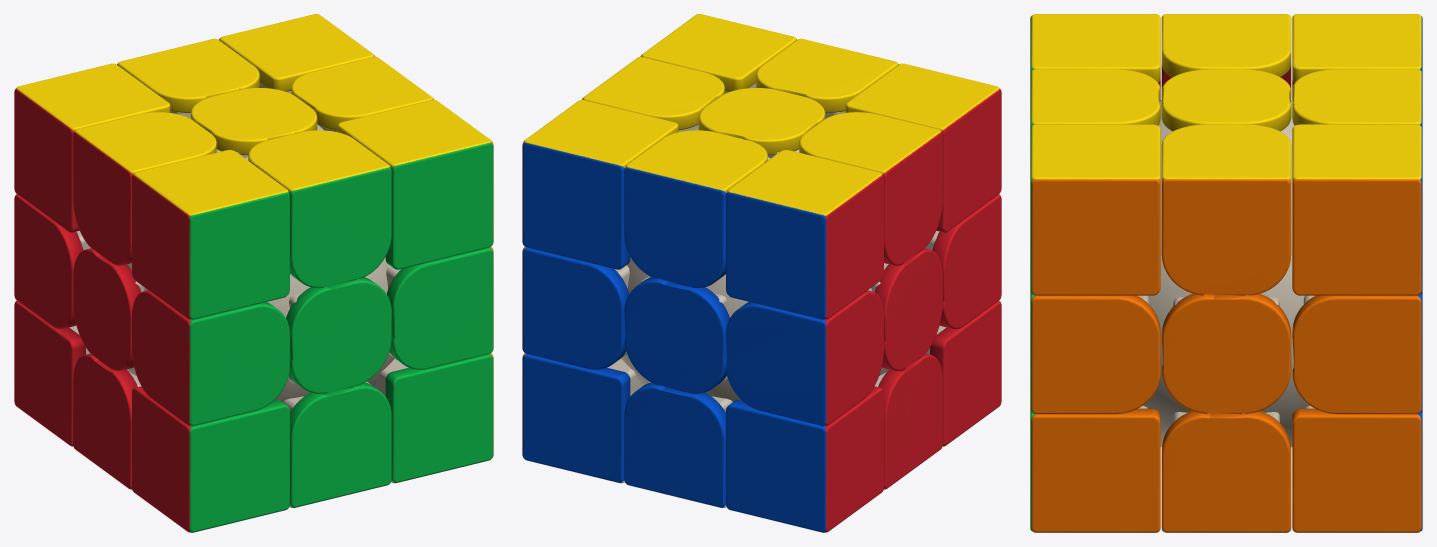
3 views of the same model, side by side, from view 1: azimuth 30°, elevation 25°; view 2: azimuth 150°, elevation 25°; view 3: azimuth 270°, elevation 25° (orthographic). The views are drawn at different scales.
Visible parts, largest first — view 1: piece_-1,1,1, piece_-1,-1,1, piece_1,1,1, piece_-1,0,1, piece_0,1,1, piece_-1,1,-1, piece_1,-1,1, piece_-1,1,0, piece_1,0,1, piece_0,-1,1, piece_0,0,1, piece_-1,-1,-1 (+8 smaller); view 2: piece_-1,1,-1, piece_-1,-1,-1, piece_1,1,-1, piece_-1,0,-1, piece_0,1,-1, piece_-1,1,1, piece_1,-1,-1, piece_-1,1,0, piece_1,0,-1, piece_0,-1,-1, piece_0,0,-1, piece_-1,-1,1 (+8 smaller); view 3: piece_1,1,-1, piece_1,1,1, piece_1,1,0, piece_1,-1,1, piece_1,-1,-1, piece_1,-1,0, piece_1,0,1, piece_1,0,-1, piece_1,0,0, piece_-1,1,0, piece_-1,1,-1, piece_-1,1,1 (+4 smaller).
Boxes of the visible parts, left/top/right/bottom form: piece_-1,1,1: left=132, top=150, right=289, bottom=319; piece_-1,-1,1: left=132, top=386, right=289, bottom=532; piece_1,1,1: left=337, top=100, right=493, bottom=269; piece_-1,0,1: left=132, top=290, right=289, bottom=425; piece_0,1,1: left=248, top=130, right=391, bottom=288; piece_-1,1,-1: left=14, top=63, right=170, bottom=232; piece_1,-1,1: left=374, top=353, right=493, bottom=483; piece_-1,1,0: left=73, top=112, right=216, bottom=265; piece_1,0,1: left=386, top=247, right=493, bottom=369; piece_0,-1,1: left=283, top=381, right=391, bottom=508; piece_0,0,1: left=286, top=277, right=391, bottom=393; piece_-1,-1,-1: left=14, top=300, right=90, bottom=446; piece_-1,1,-1: left=726, top=150, right=883, bottom=319; piece_-1,-1,-1: left=726, top=386, right=883, bottom=532; piece_1,1,-1: left=522, top=100, right=678, bottom=269; piece_-1,0,-1: left=726, top=290, right=883, bottom=425; piece_0,1,-1: left=624, top=130, right=767, bottom=288; piece_-1,1,1: left=845, top=63, right=1001, bottom=232; piece_1,-1,-1: left=522, top=353, right=641, bottom=483; piece_-1,1,0: left=799, top=112, right=942, bottom=265; piece_1,0,-1: left=522, top=247, right=629, bottom=369; piece_0,-1,-1: left=624, top=381, right=732, bottom=508; piece_0,0,-1: left=624, top=277, right=729, bottom=393; piece_-1,-1,1: left=925, top=300, right=1001, bottom=446; piece_1,1,-1: left=1292, top=124, right=1422, bottom=295; piece_1,1,1: left=1030, top=124, right=1160, bottom=295; piece_1,1,0: left=1161, top=124, right=1291, bottom=295; piece_1,-1,1: left=1030, top=405, right=1160, bottom=532; piece_1,-1,-1: left=1292, top=405, right=1422, bottom=532; piece_1,-1,0: left=1161, top=411, right=1291, bottom=532; piece_1,0,1: left=1030, top=292, right=1160, bottom=414; piece_1,0,-1: left=1292, top=292, right=1422, bottom=414; piece_1,0,0: left=1161, top=293, right=1291, bottom=414; piece_-1,1,0: left=1161, top=14, right=1291, bottom=98; piece_-1,1,-1: left=1292, top=14, right=1422, bottom=99; piece_-1,1,1: left=1030, top=14, right=1160, bottom=99.
Bounding box in the file's own units: 2 × 2 × 2.
